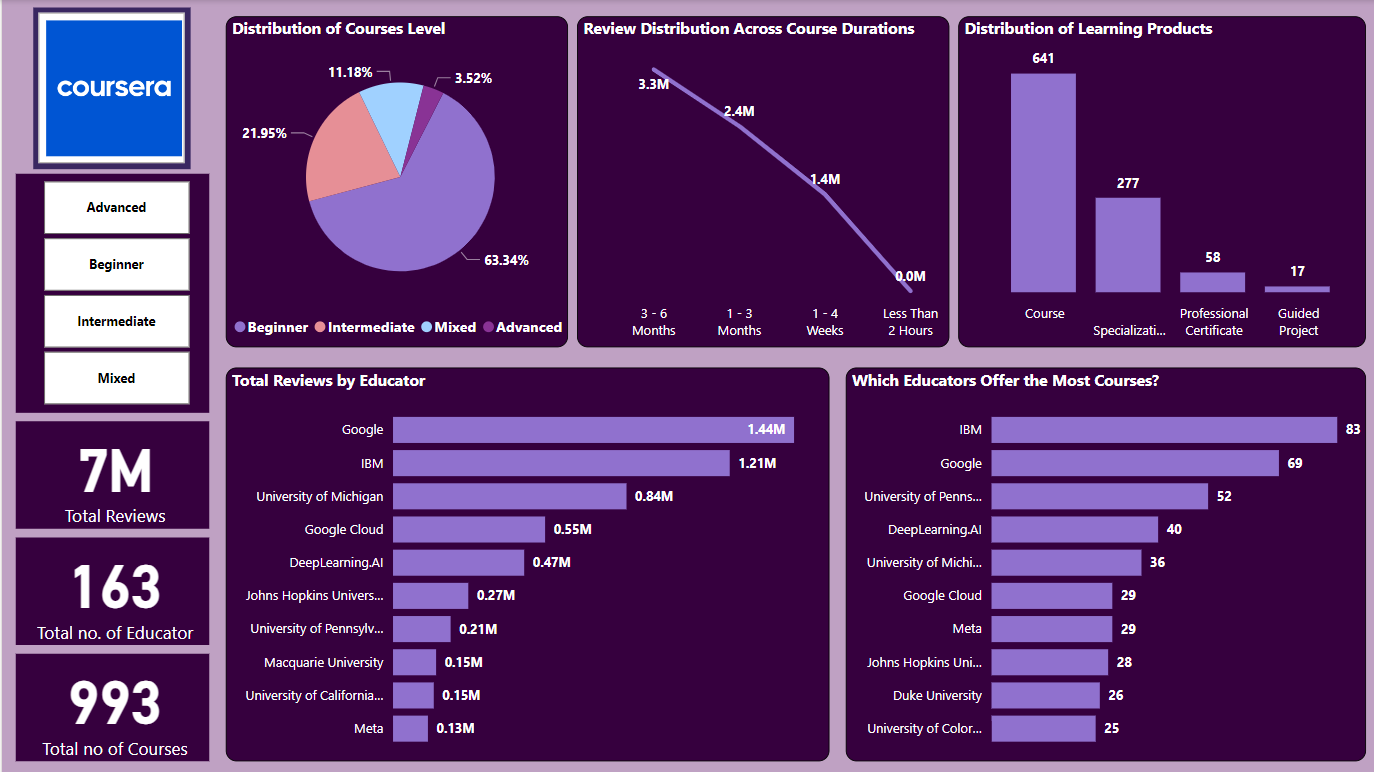

The dashboard page shown, as its layout file describes it:
{"tool":"powerbi","page":{"name":"Page 1","canvas":[1280,720],"ordinal":0},"visuals":[{"type":"clusteredBarChart","title":"Total Reviews by Educator","fields":{"Category":["coursera.Educator"],"Y":["Sum(coursera.Reviews2)"]},"box":[208.1,341.9,561.6,366.3],"z":0},{"type":"lineChart","title":"Review Distribution Across Course Durations","fields":{"Category":["coursera.Duration"],"Y":["Sum(coursera.Reviews2)"]},"box":[534.9,15.1,346.5,308.1],"z":1000},{"type":"pieChart","title":"Distribution of Courses Level","fields":{"Category":["coursera.Level"],"Y":["CountNonNull(coursera.Course Title)"]},"box":[208.1,15.1,318.6,308.1],"z":2000},{"type":"clusteredBarChart","title":"Which Educators Offer the Most Courses?","fields":{"Category":["coursera.Educator"],"Y":["CountNonNull(coursera.Course Title)"]},"box":[784.9,341.9,483.7,366.3],"z":3000},{"type":"columnChart","title":"Distribution of Learning Products","fields":{"Category":["coursera.Learning Product"],"Y":["CountNonNull(coursera.Course Title)"]},"box":[889.5,15.1,379.1,308.1],"z":4000},{"type":"slicer","fields":{"Values":["coursera.Level"]},"box":[12.8,161.6,180.2,222.1],"z":5000},{"type":"card","fields":{"Values":["CountNonNull(coursera.Course Title)"]},"box":[12.8,608.1,180.2,100],"z":6000},{"type":"card","fields":{"Values":["Sum(coursera.Reviews2)"]},"box":[12.8,391.9,180.2,100],"z":7000},{"type":"card","fields":{"Values":["Count(coursera.Educator)"]},"box":[12.8,500,180.2,100],"z":8000},{"type":"cardVisual","fields":{"Data":["CountNonNull(coursera.Course Title)"]},"box":[29,7,146.5,150],"z":9000}]}

Visuals, with their boxes in screenshot pixels (x1, y1, x2, y2), scaled from the page's 1280x720 canvas onto the 1374x772 screenshot:
"Total Reviews by Educator" clusteredBarChart: <bbox>223, 367, 826, 759</bbox>
"Review Distribution Across Course Durations" lineChart: <bbox>574, 16, 946, 347</bbox>
"Distribution of Courses Level" pieChart: <bbox>223, 16, 565, 347</bbox>
"Which Educators Offer the Most Courses?" clusteredBarChart: <bbox>843, 367, 1362, 759</bbox>
"Distribution of Learning Products" columnChart: <bbox>955, 16, 1362, 347</bbox>
slicer - coursera.Level: <bbox>14, 173, 207, 411</bbox>
card - CountNonNull(coursera.Course Title): <bbox>14, 652, 207, 759</bbox>
card - Sum(coursera.Reviews2): <bbox>14, 420, 207, 527</bbox>
card - Count(coursera.Educator): <bbox>14, 536, 207, 643</bbox>
cardVisual - CountNonNull(coursera.Course Title): <bbox>31, 8, 188, 168</bbox>
